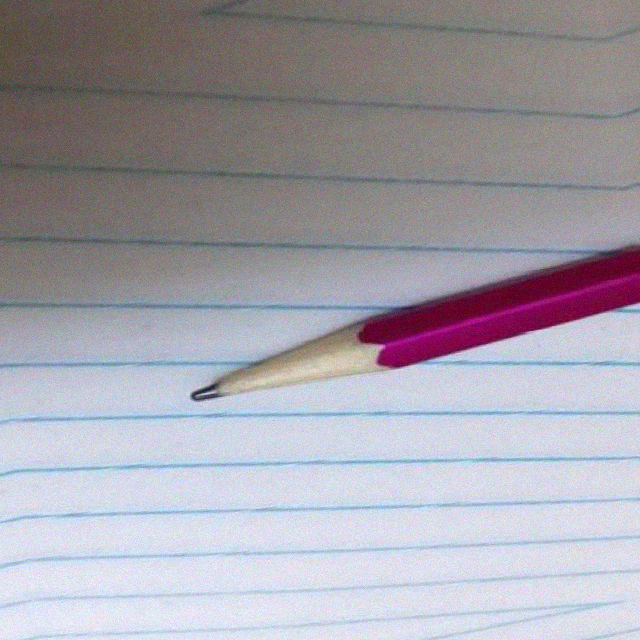pencil: (186, 326, 407, 414)
